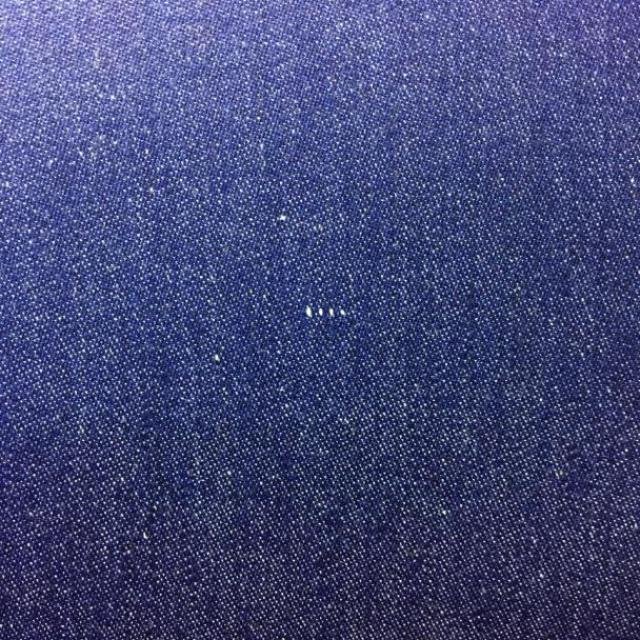Knot: (304, 305, 351, 319)
